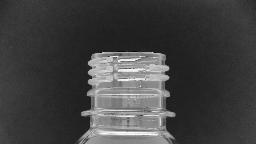No Cap: (76, 46, 180, 122)
